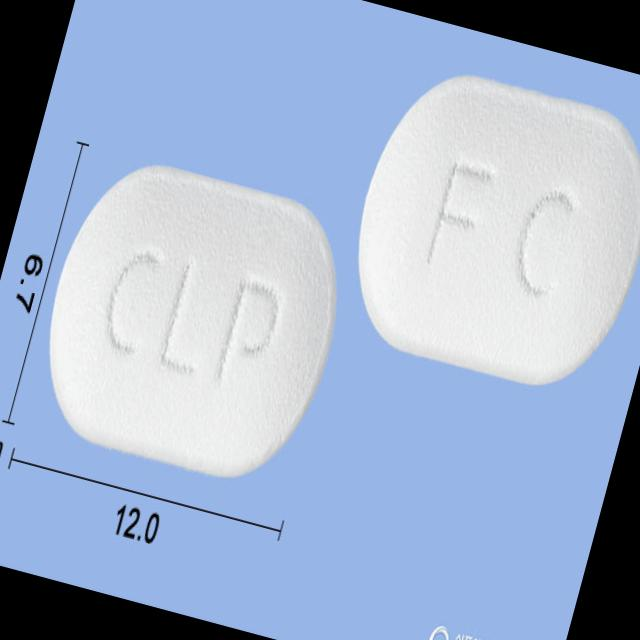Famcivir: (20, 144, 365, 496), (329, 56, 640, 404)
